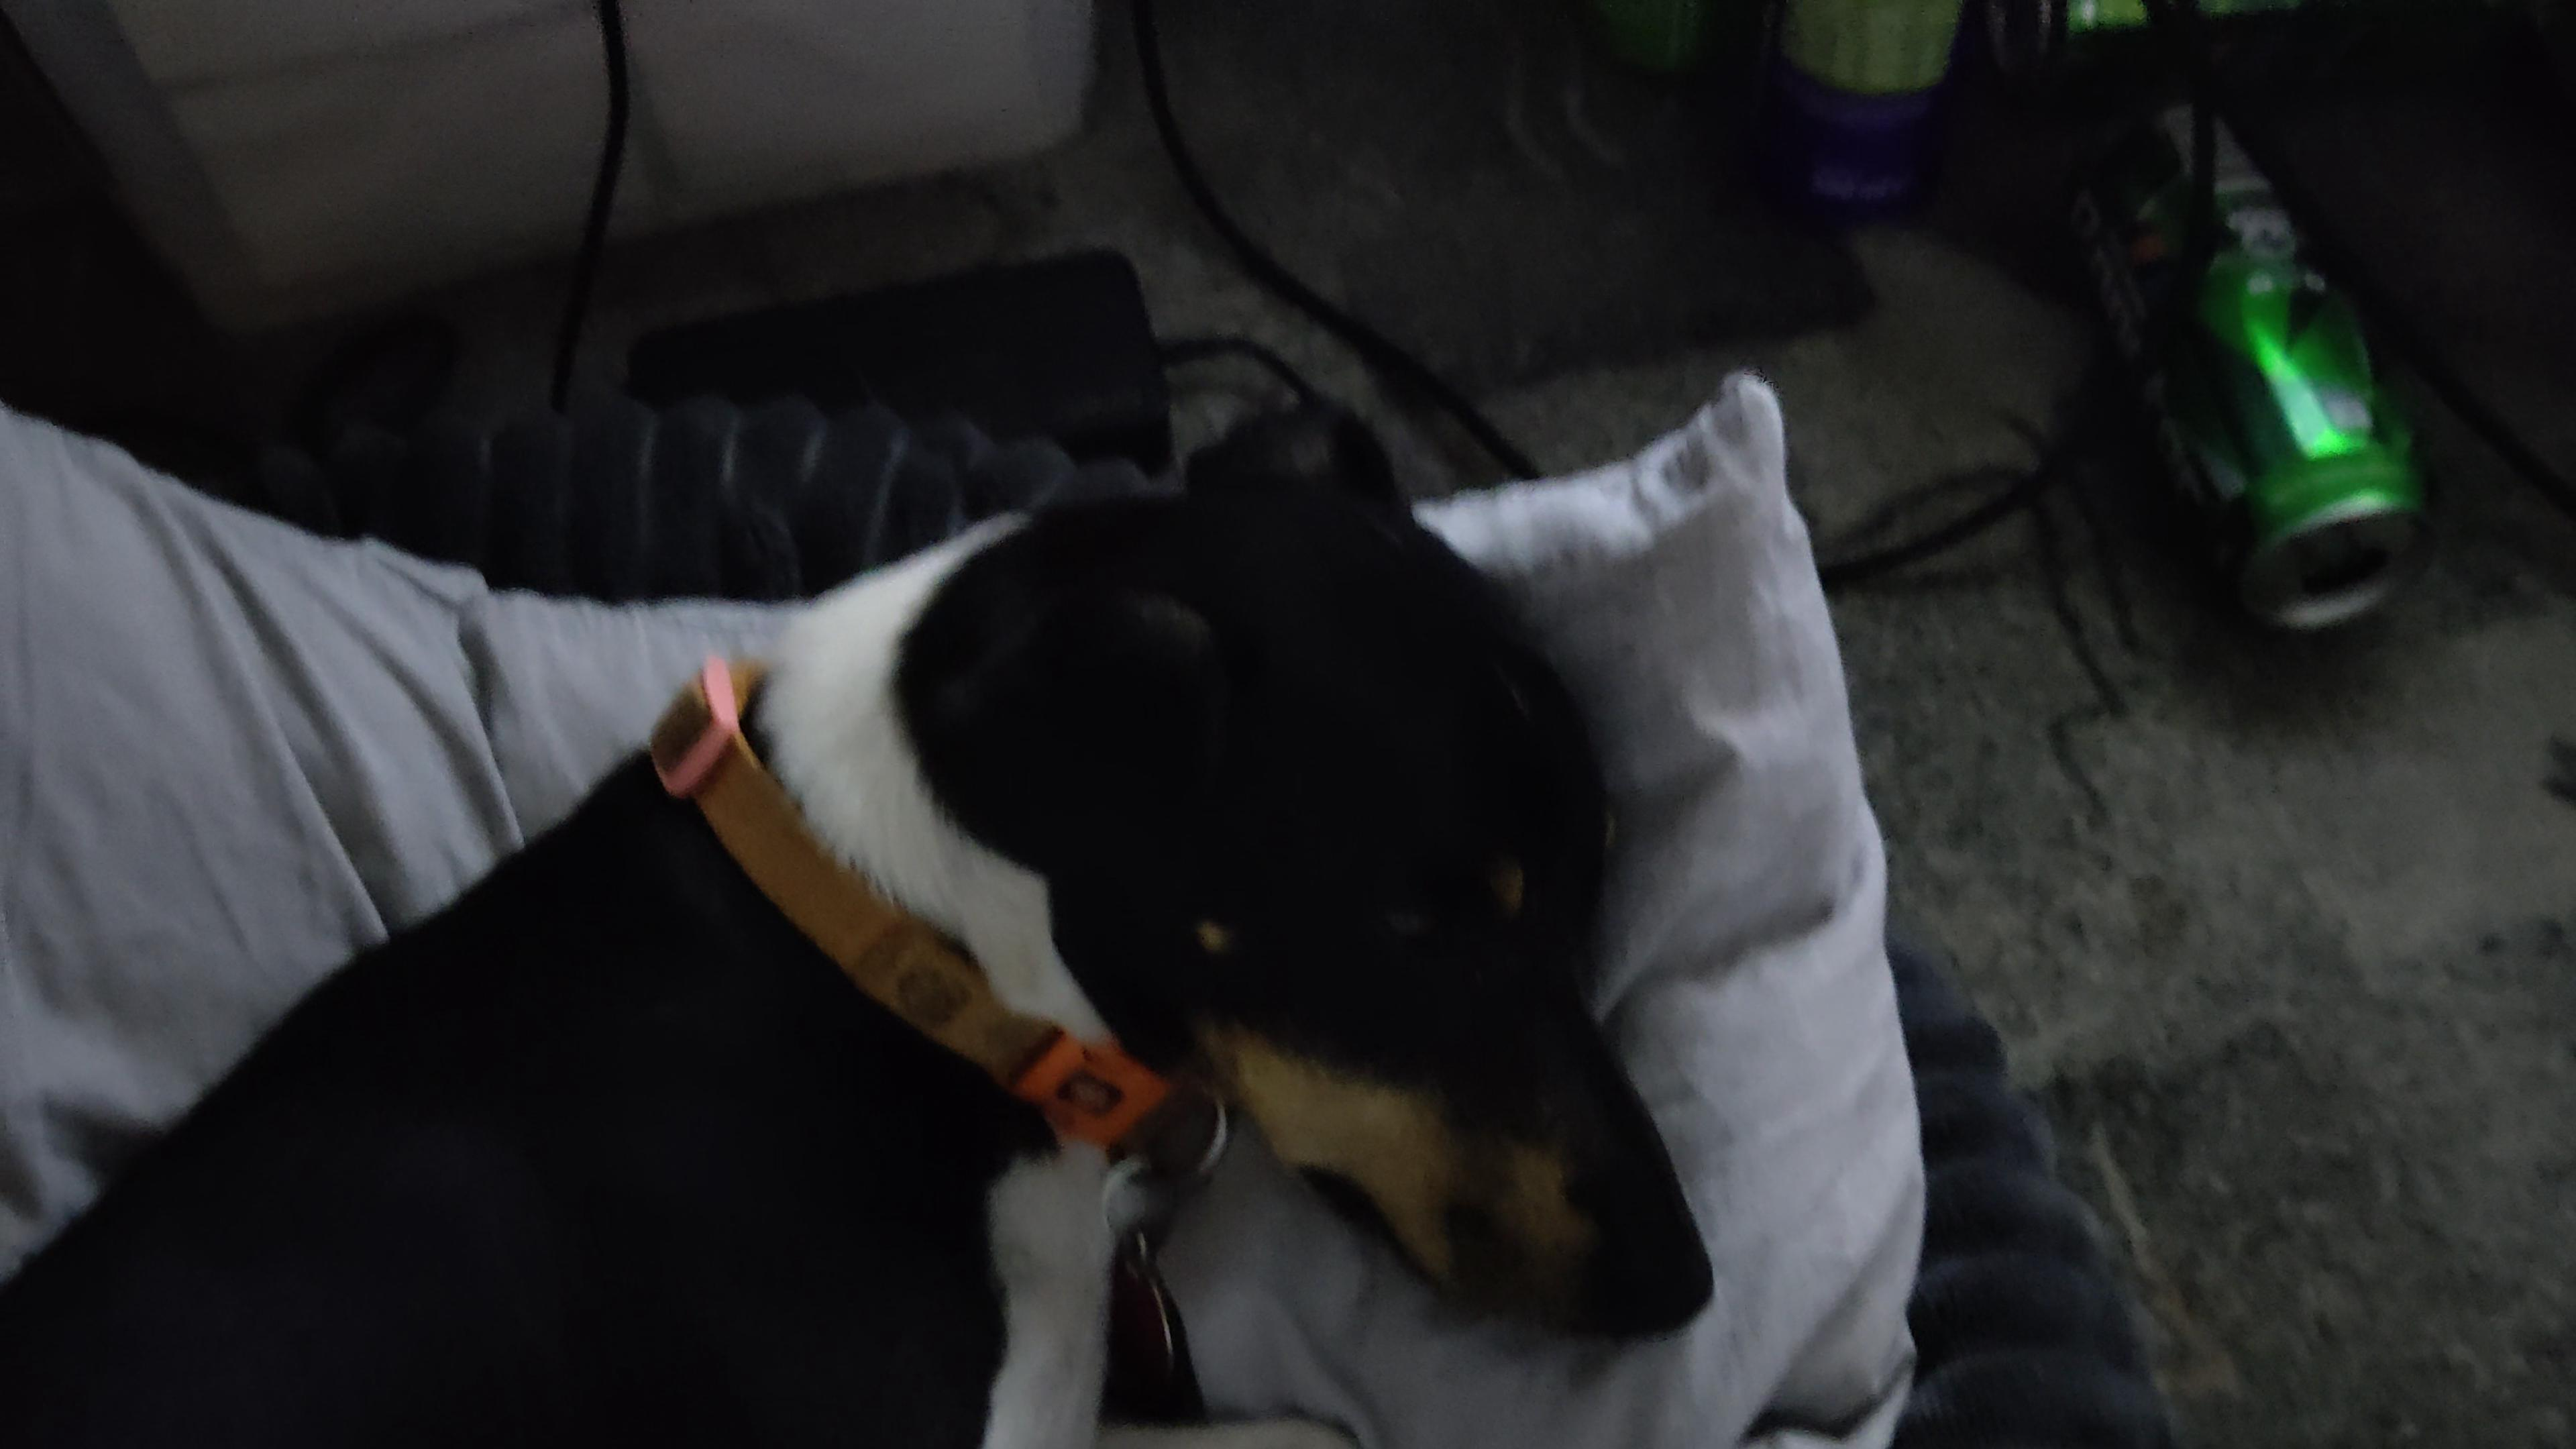Dog: (0, 375, 1732, 1449)
